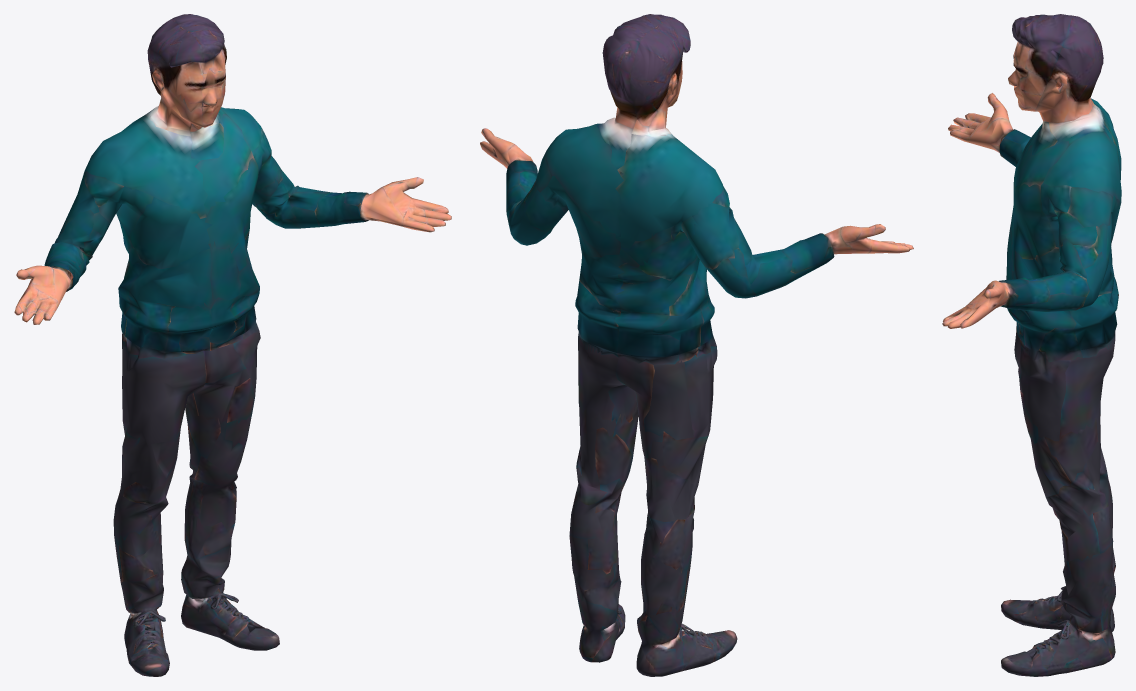
The model's file is pax-sleeper2.glb.
The picture shows the model from 3 angles, left to right: view 1: azimuth 30°, elevation 25°; view 2: azimuth 150°, elevation 25°; view 3: azimuth 270°, elevation 25°; orthographic projection.
Bounding box in the file's own units: 1.37 × 1.9 × 0.4908.
1 material, 1 textured.
